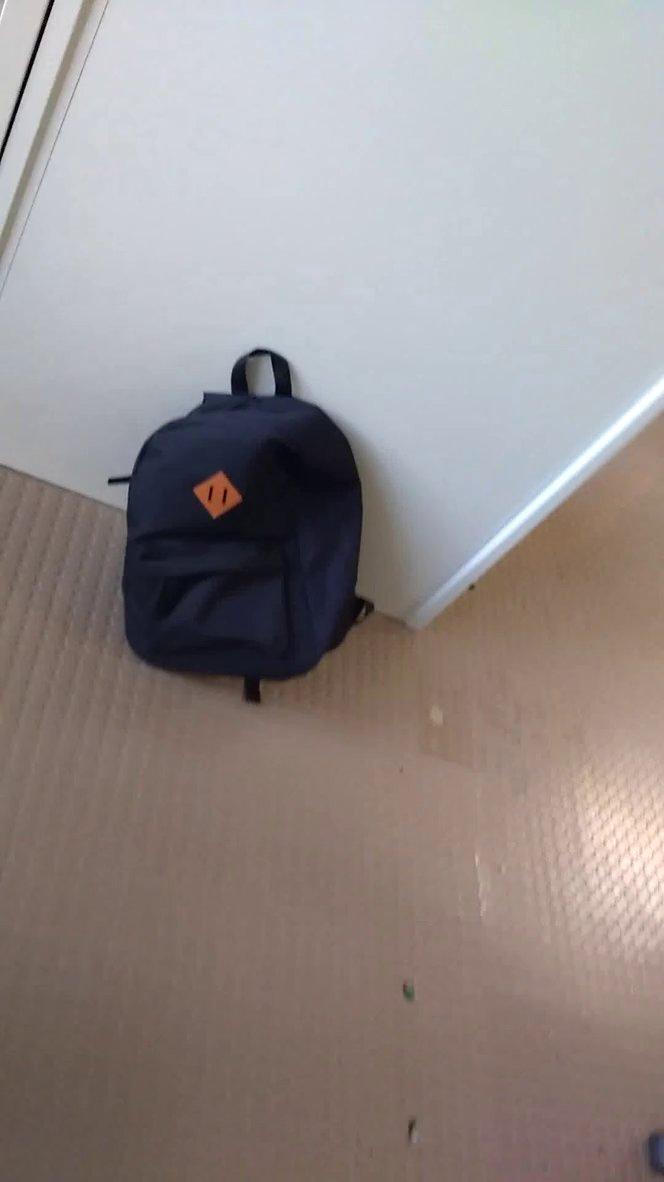bag: (77, 326, 396, 713)
